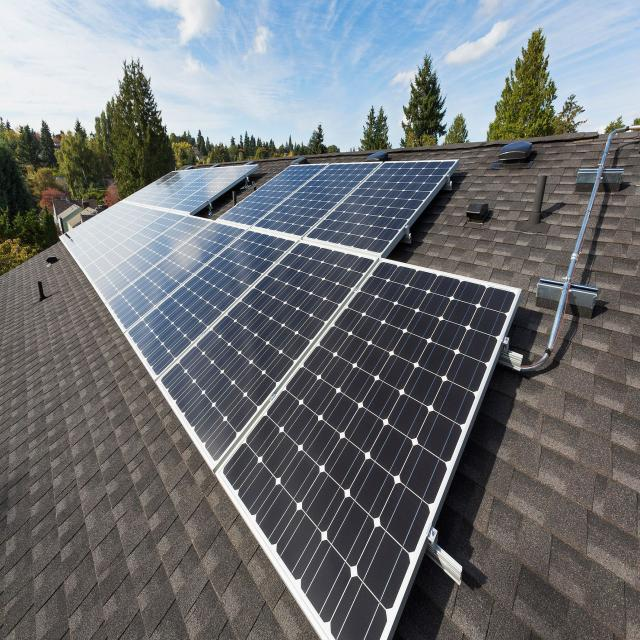Clean: (60, 155, 513, 640)
